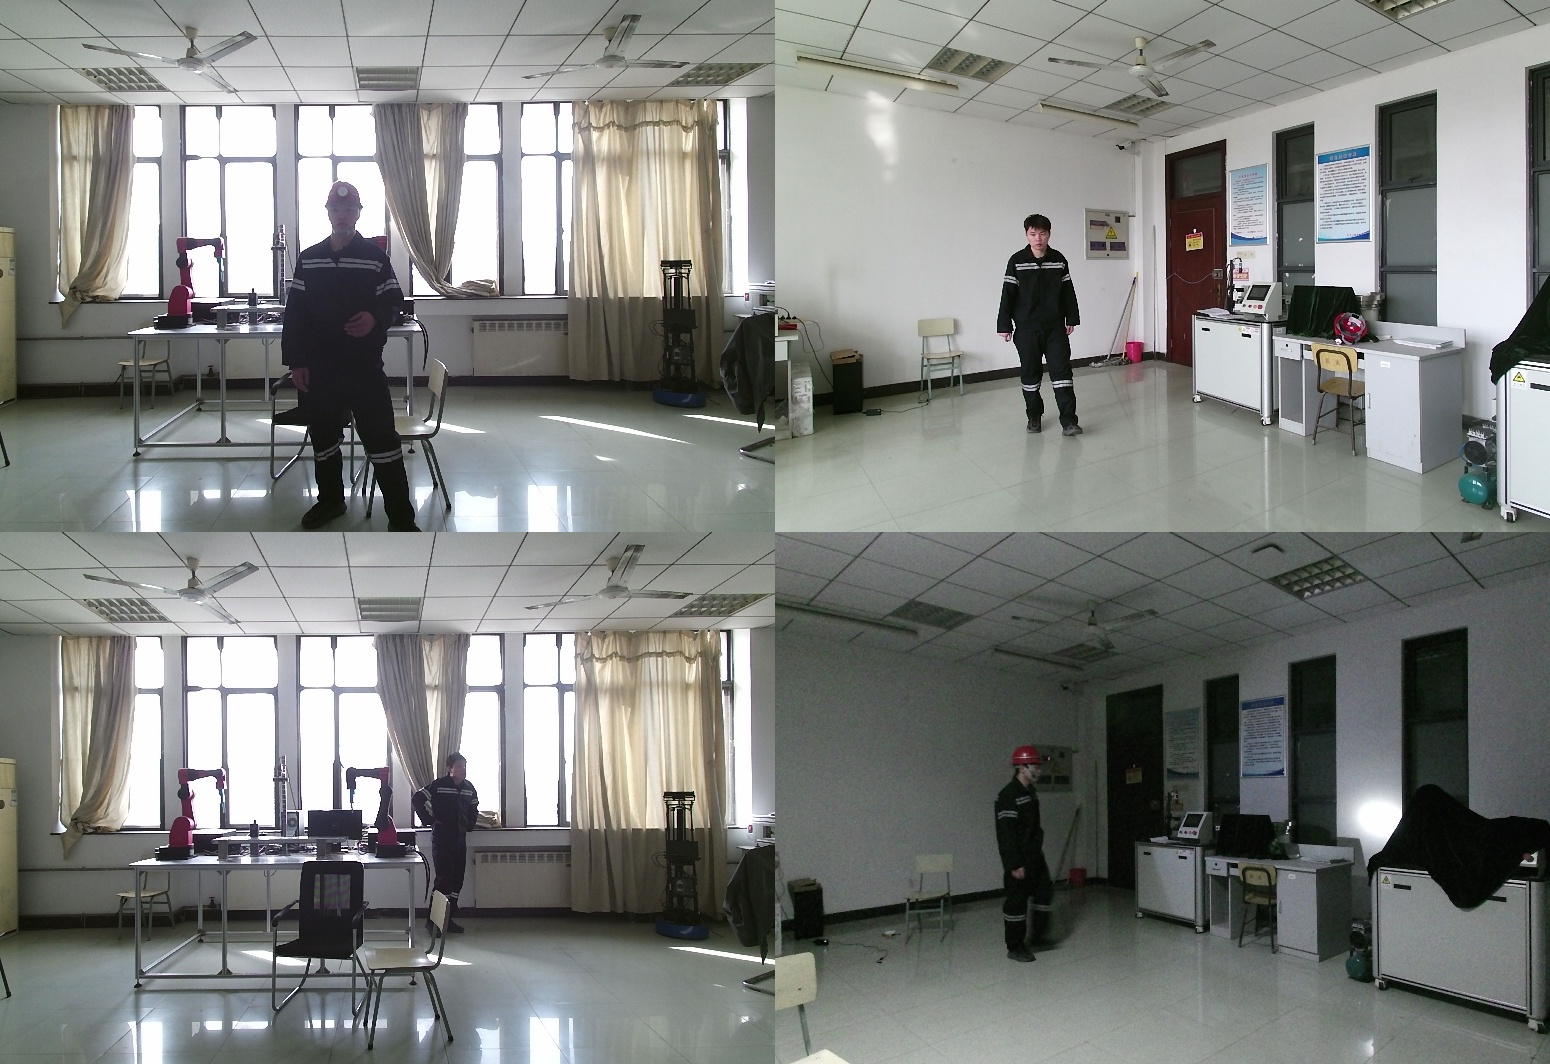person: (283, 182, 417, 532), (992, 215, 1095, 447), (986, 745, 1051, 972), (413, 755, 479, 943)
